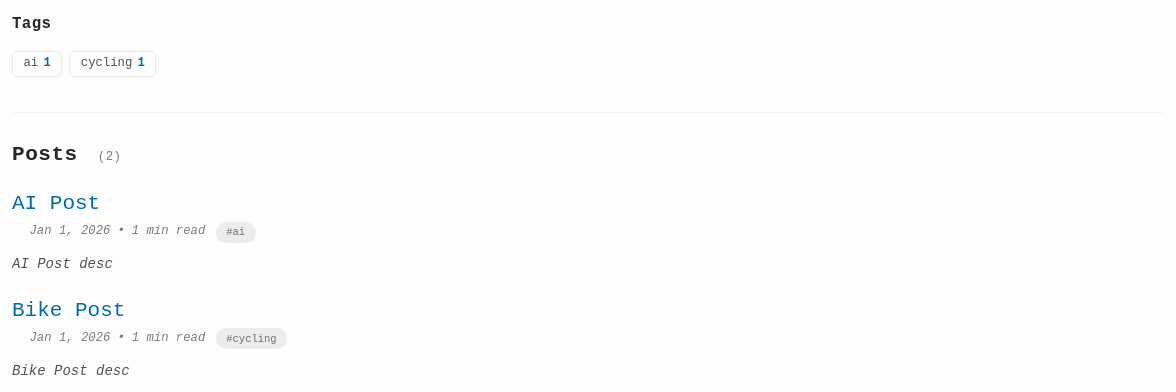
Test: TagFilter › shows the empty state when no post matches all selected tags
This screenshot has width=1176, height=392.
Click the button "ai 1" at (37, 64), box x1=12 y1=50 x2=62 y2=77
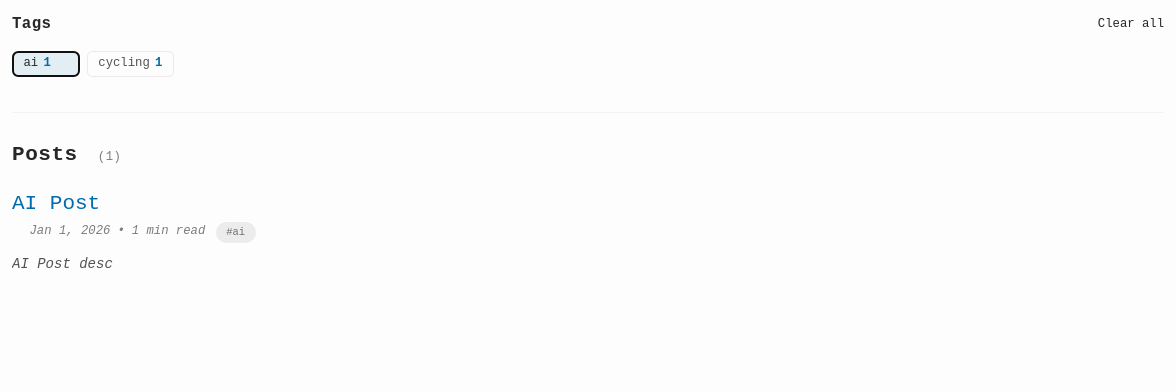
Click the button "cycling 1" at (130, 64), box x1=87 y1=50 x2=174 y2=77
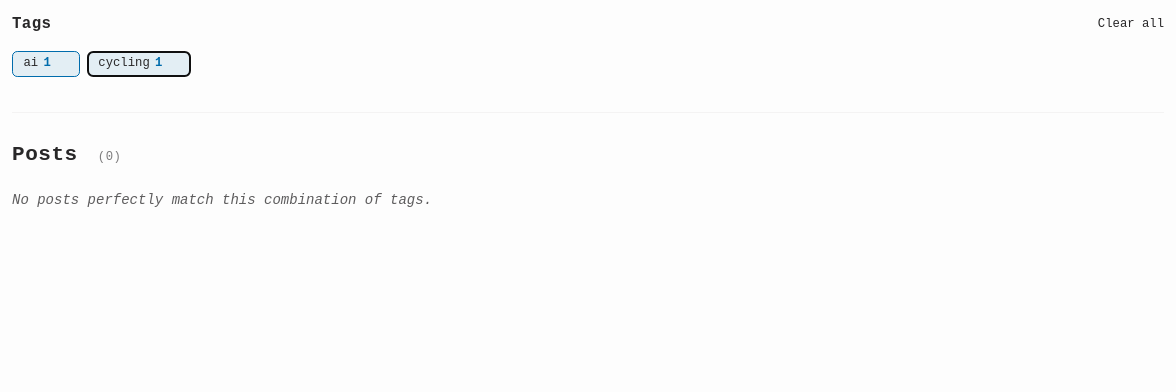
Check: the text "No posts perfectly match this combination of tags." is shown, box x1=12 y1=192 x2=432 y2=208
